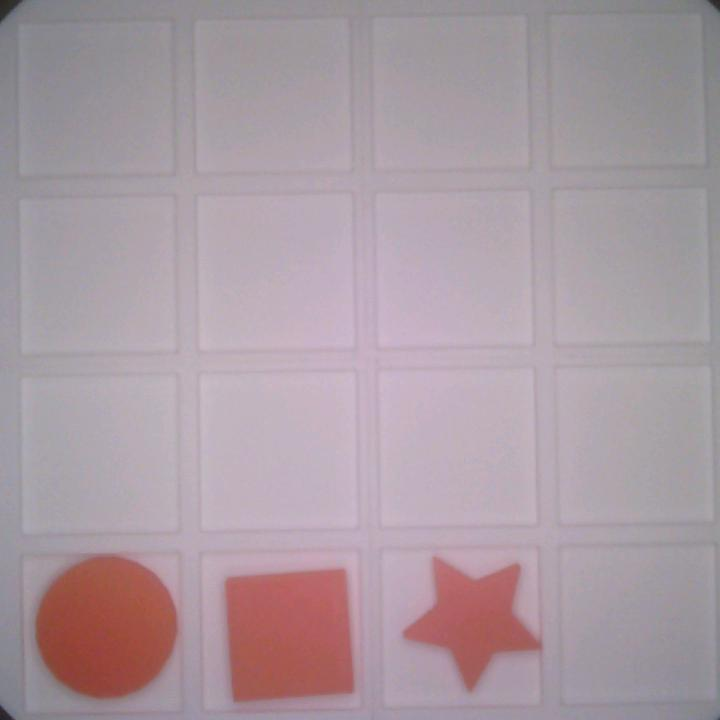Orange circle: (31, 556, 178, 700)
Orange square: (222, 562, 357, 704)
Orange star: (400, 551, 540, 695)
